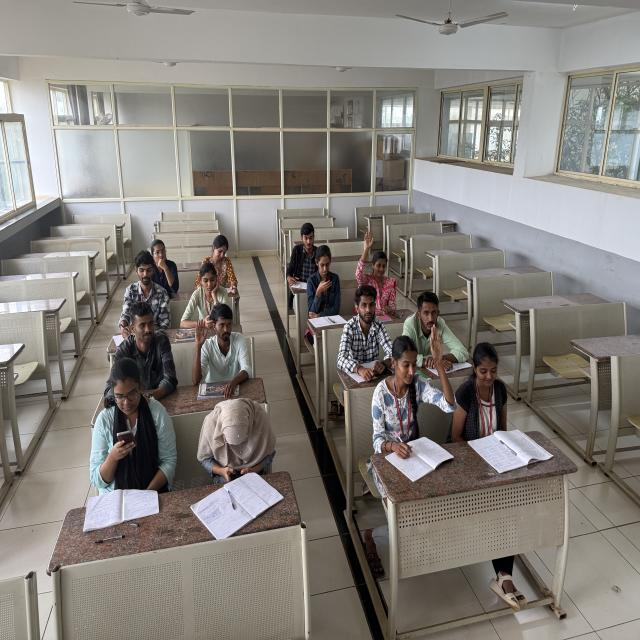Hand Rising: (373, 324, 459, 439), (192, 298, 257, 396), (352, 228, 402, 312)
Reading: (455, 341, 519, 453), (282, 220, 321, 290)
Using Phone: (88, 358, 180, 498), (191, 394, 282, 496), (180, 262, 239, 332), (304, 243, 346, 322)
Writing: (118, 246, 166, 326), (196, 233, 245, 294)
